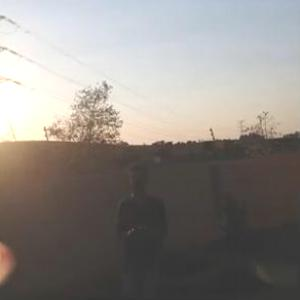follow: (115, 156, 176, 299)
